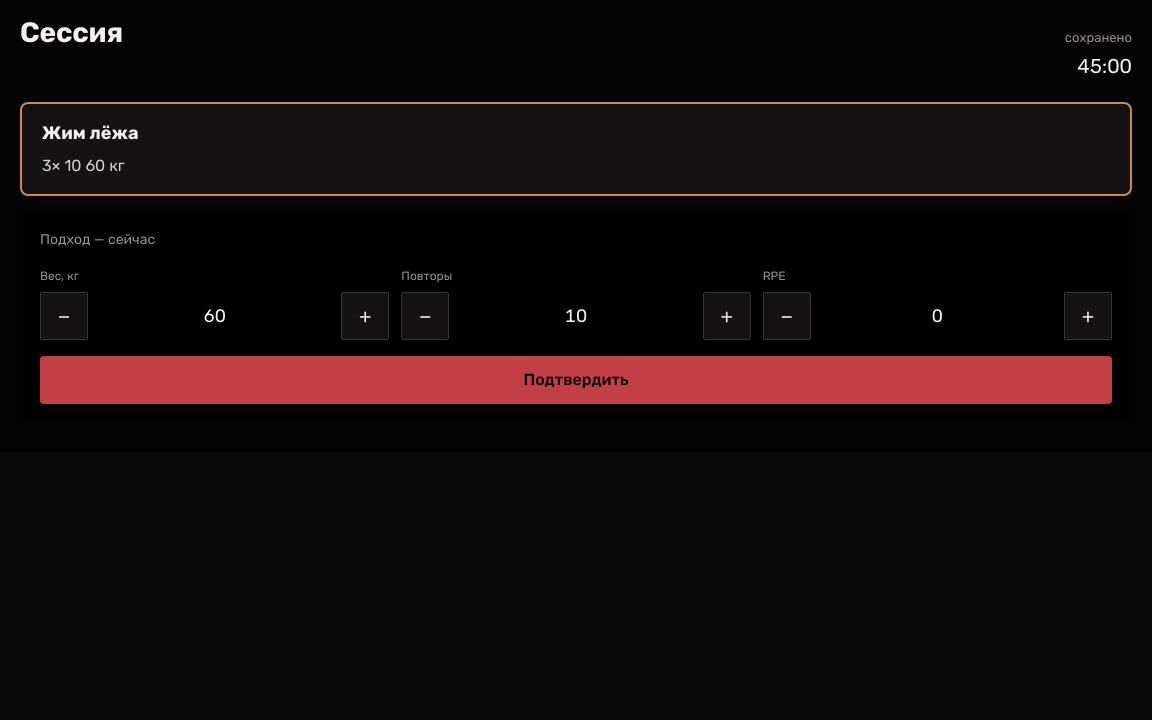
Test case: SessionWorkoutView › skips rest and +30 extends endsAt from wall clock
What coordinates should you click on to do the following:
click the button with test id "session-set-confirm"
I would click on:
 (576, 380)
Its box is 40,356 -> 1112,404.
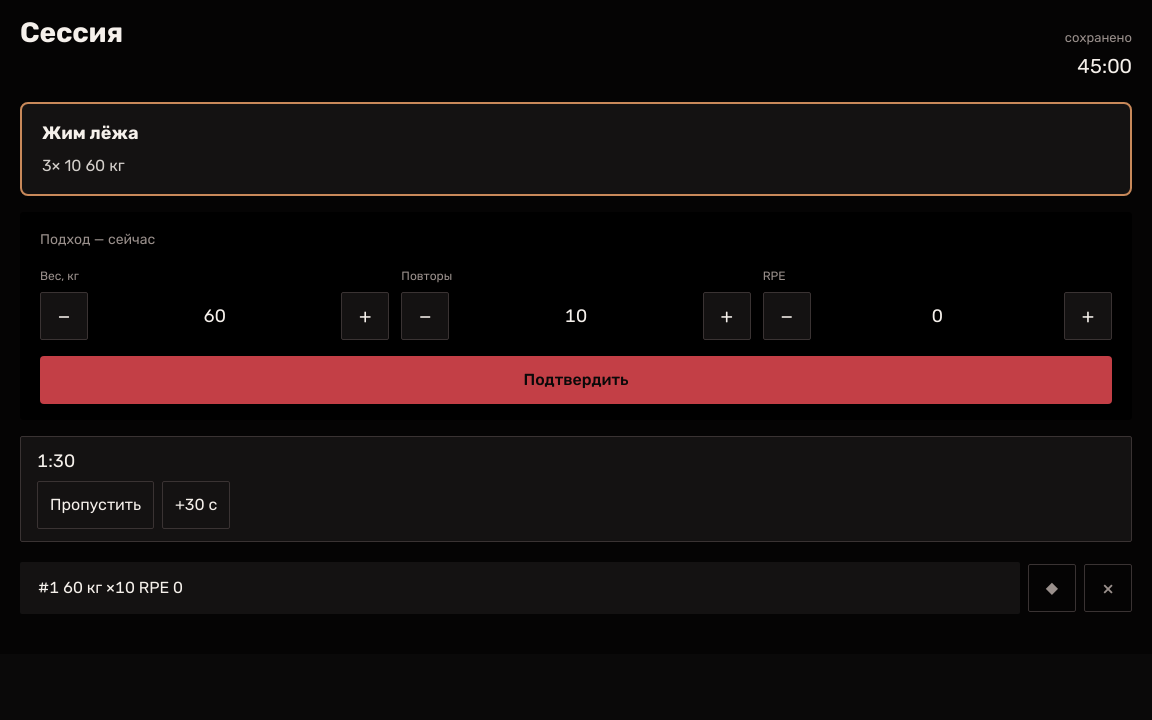
Expected: the text with test id "session-set-sync-indicator" reads "сохранено", 1065,30 -> 1132,45
What coordinates should you click on to do the following:
click the button with test id "session-rest-extend"
I would click on:
 (196, 505)
Its box is 162,481 -> 230,529.
Wait 60000 ms
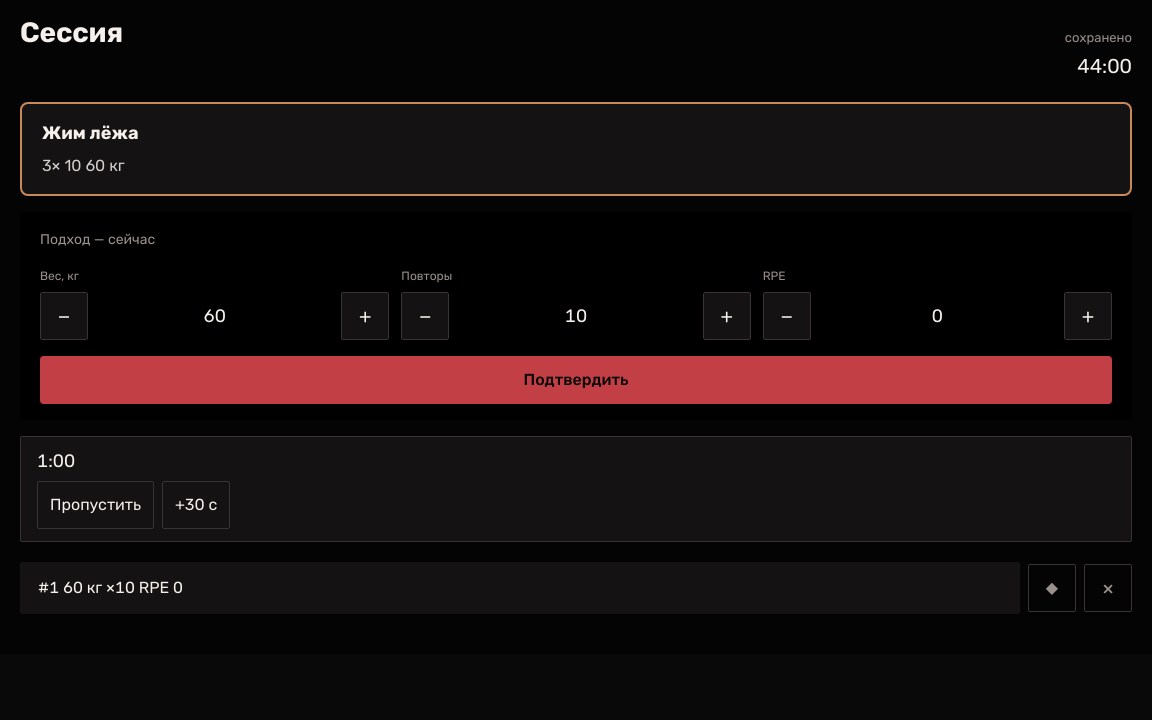
Result: the text with test id "session-rest-timer-label" reads "1:00" at 37,450 -> 75,472
What coordinates should you click on to do the following:
click the button with test id "session-rest-skip"
I would click on:
 (96, 505)
Its box is 37,481 -> 154,529.
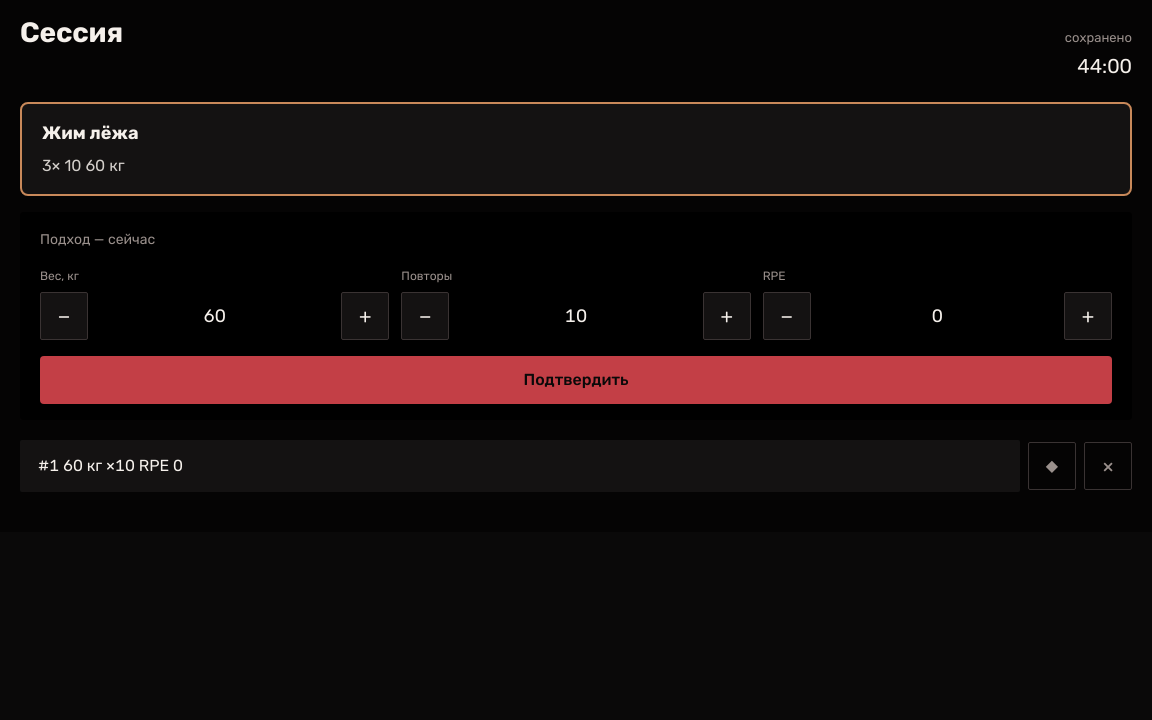
Result: the element with test id "session-rest-timer" is gone
